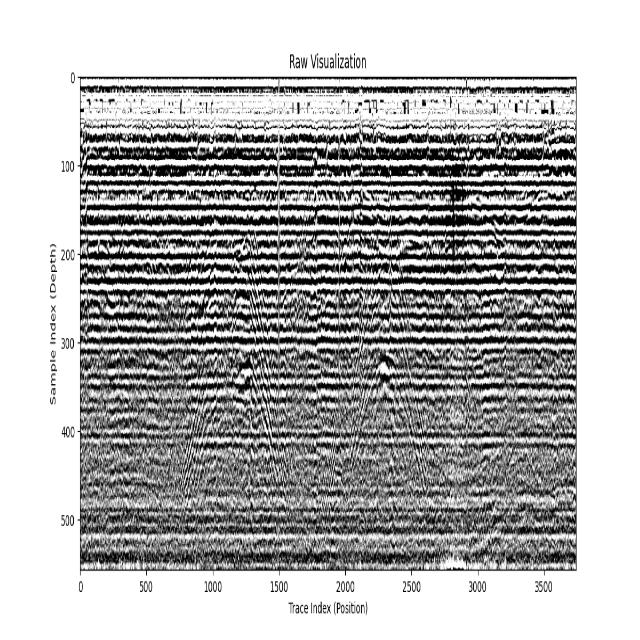anomaly: (175, 205, 280, 567), (339, 244, 429, 565), (459, 453, 576, 564)
